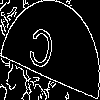C: (25, 25, 56, 80)
